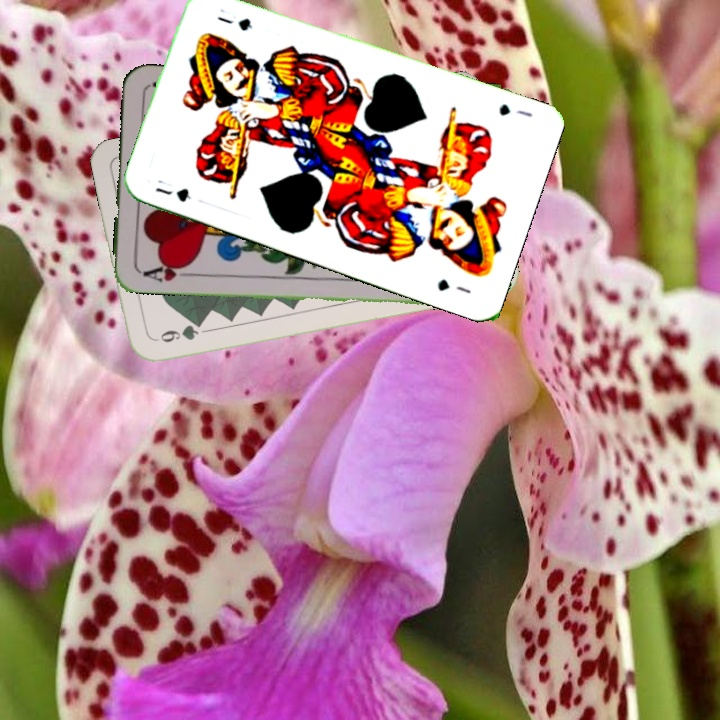G9: (156, 317, 207, 345)
GU: (151, 183, 194, 205), (495, 99, 535, 120)
HA: (137, 258, 196, 285)
